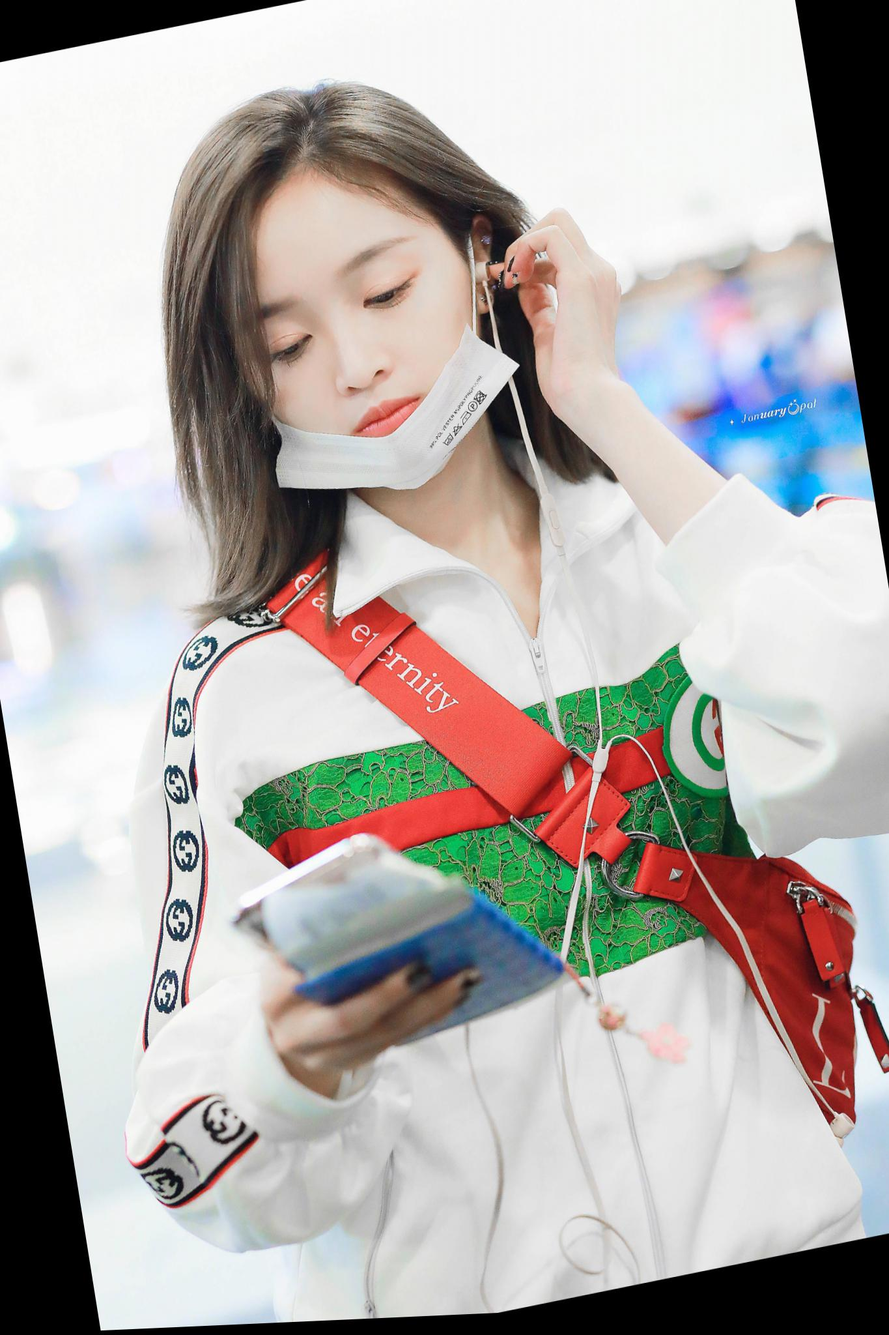WRONG: (213, 190, 505, 520)
